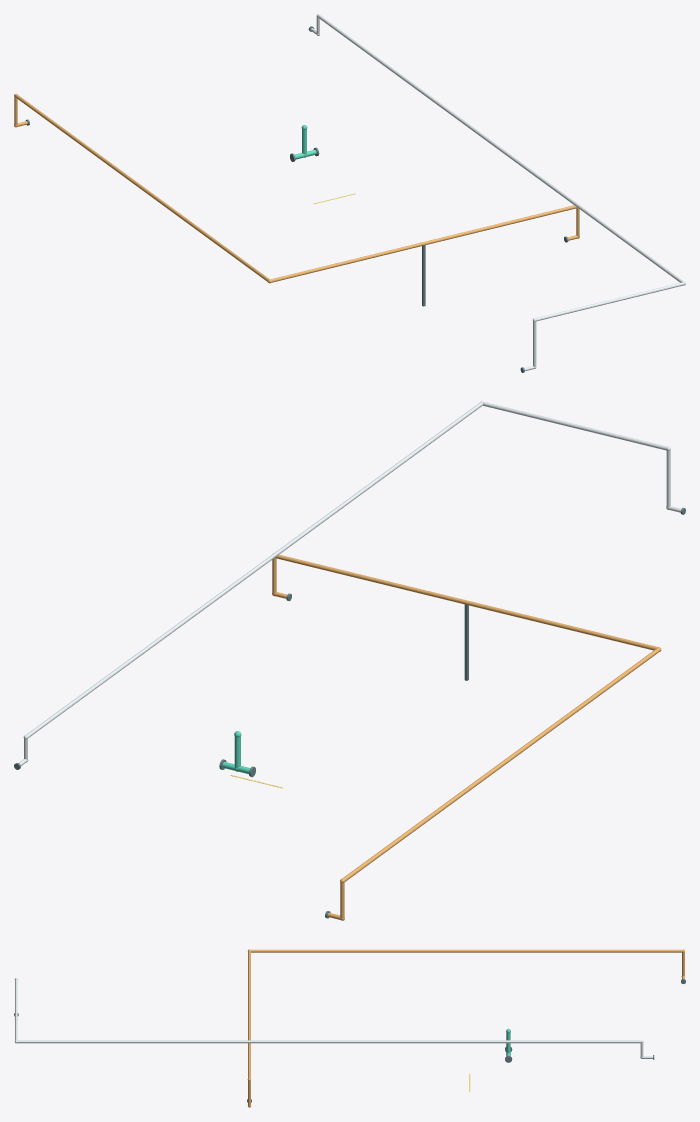
3 renders of one model, top to bottom at view 1: azimuth 30°, elevation 25°; view 2: azimuth 150°, elevation 25°; view 3: azimuth 270°, elevation 25°, orthographic. The views are drawn at different scales.
Parts seen in each view (by area): view 1: render-batch-3, render-batch-2; view 2: render-batch-3, render-batch-2; view 3: render-batch-2, render-batch-3.
Part boxes in pixels (x1,y1,x2,y2): render-batch-3: (14,93,579,283); render-batch-2: (310,14,685,370); render-batch-3: (272,553,661,920); render-batch-2: (19,401,681,765); render-batch-2: (14,978,652,1058); render-batch-3: (247,949,684,1107).
Bounding box in the file's own units: 23.77 × 6.81 × 51.88.
